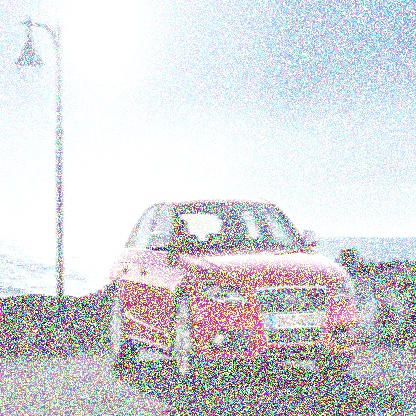Vehicle: (109, 194, 359, 386)
